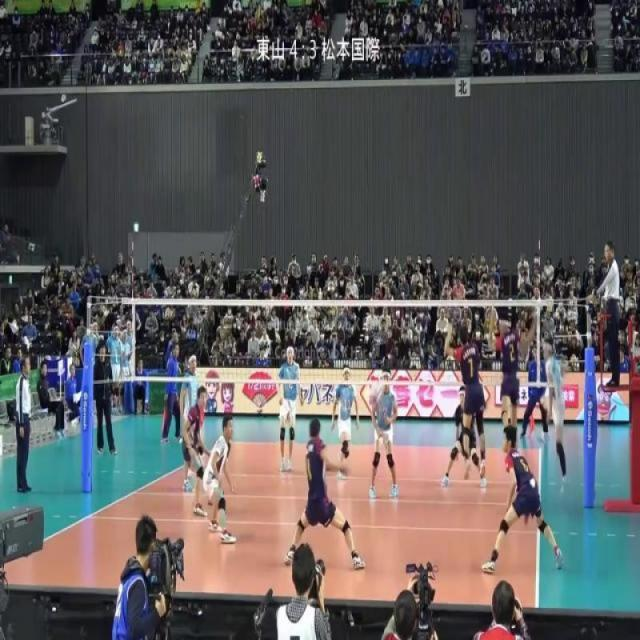volleyball: (368, 380, 379, 400)
